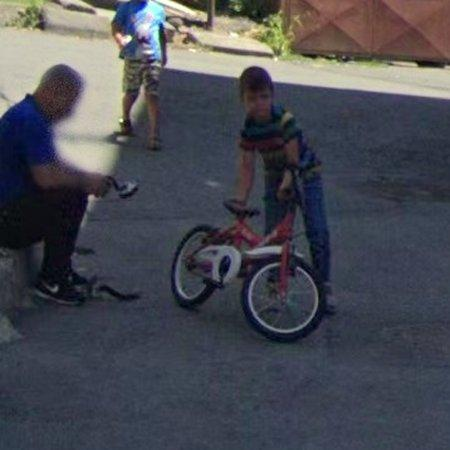bicycles: (172, 199, 324, 341)
